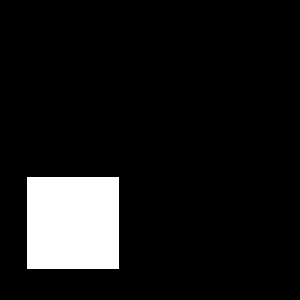circle: (27, 177, 119, 269)
